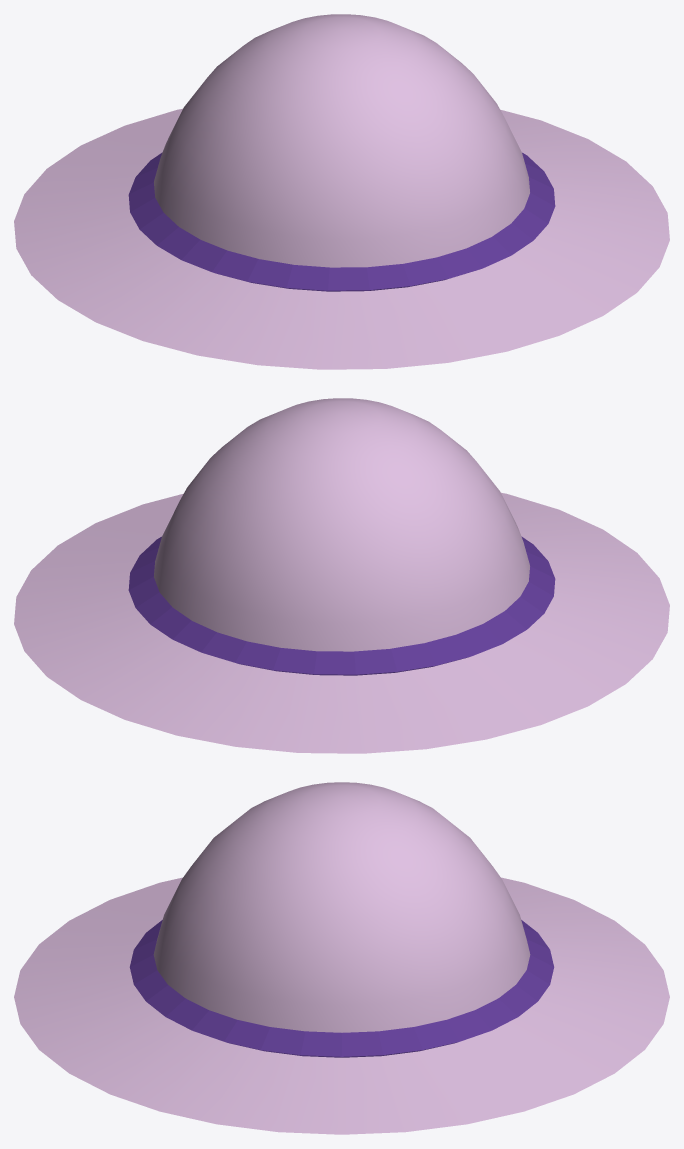
File: topibulatungu3fbx.fbx
3 renders of one model, top to bottom at view 1: azimuth 30°, elevation 25°; view 2: azimuth 150°, elevation 25°; view 3: azimuth 270°, elevation 25°, orthographic.
Parts seen in each view (by area): view 1: Sphere, Torus.001; view 2: Sphere, Torus.001; view 3: Sphere, Torus.001.
Boxes of the visible parts, <box> form: Sphere: <box>14,14,669,369</box>; Torus.001: <box>128,152,555,291</box>; Sphere: <box>14,398,669,753</box>; Torus.001: <box>128,536,555,675</box>; Sphere: <box>14,782,669,1134</box>; Torus.001: <box>129,920,554,1057</box>.
Bounding box in the file's own units: 276 × 93.44 × 278.
